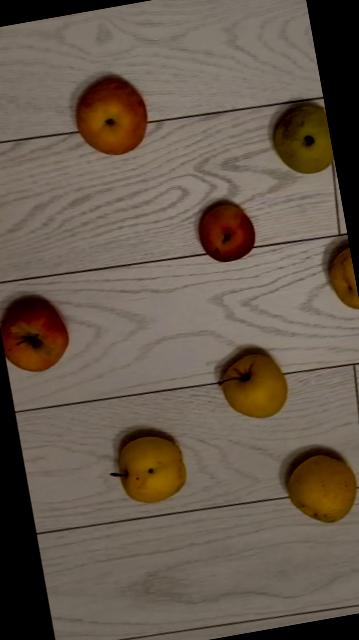apple_green: (281, 449, 359, 531), (106, 432, 188, 509), (214, 350, 291, 426), (266, 104, 335, 181), (324, 247, 359, 314)
apple_red: (68, 75, 150, 162), (0, 297, 70, 378), (194, 200, 258, 266)
